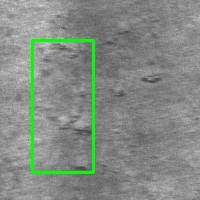rolled-in_scale: (32, 40, 93, 172), (105, 65, 167, 99)
